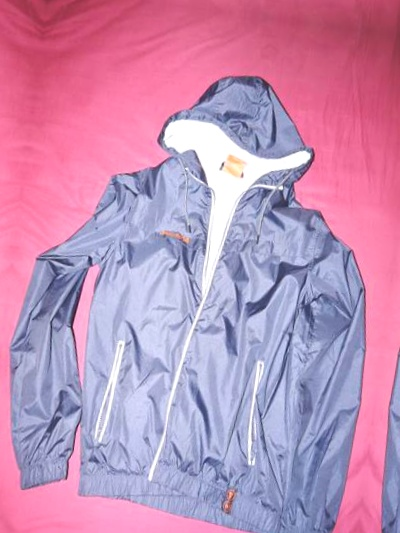Hoodie: (0, 32, 400, 533), (357, 82, 400, 533), (0, 0, 38, 492)
